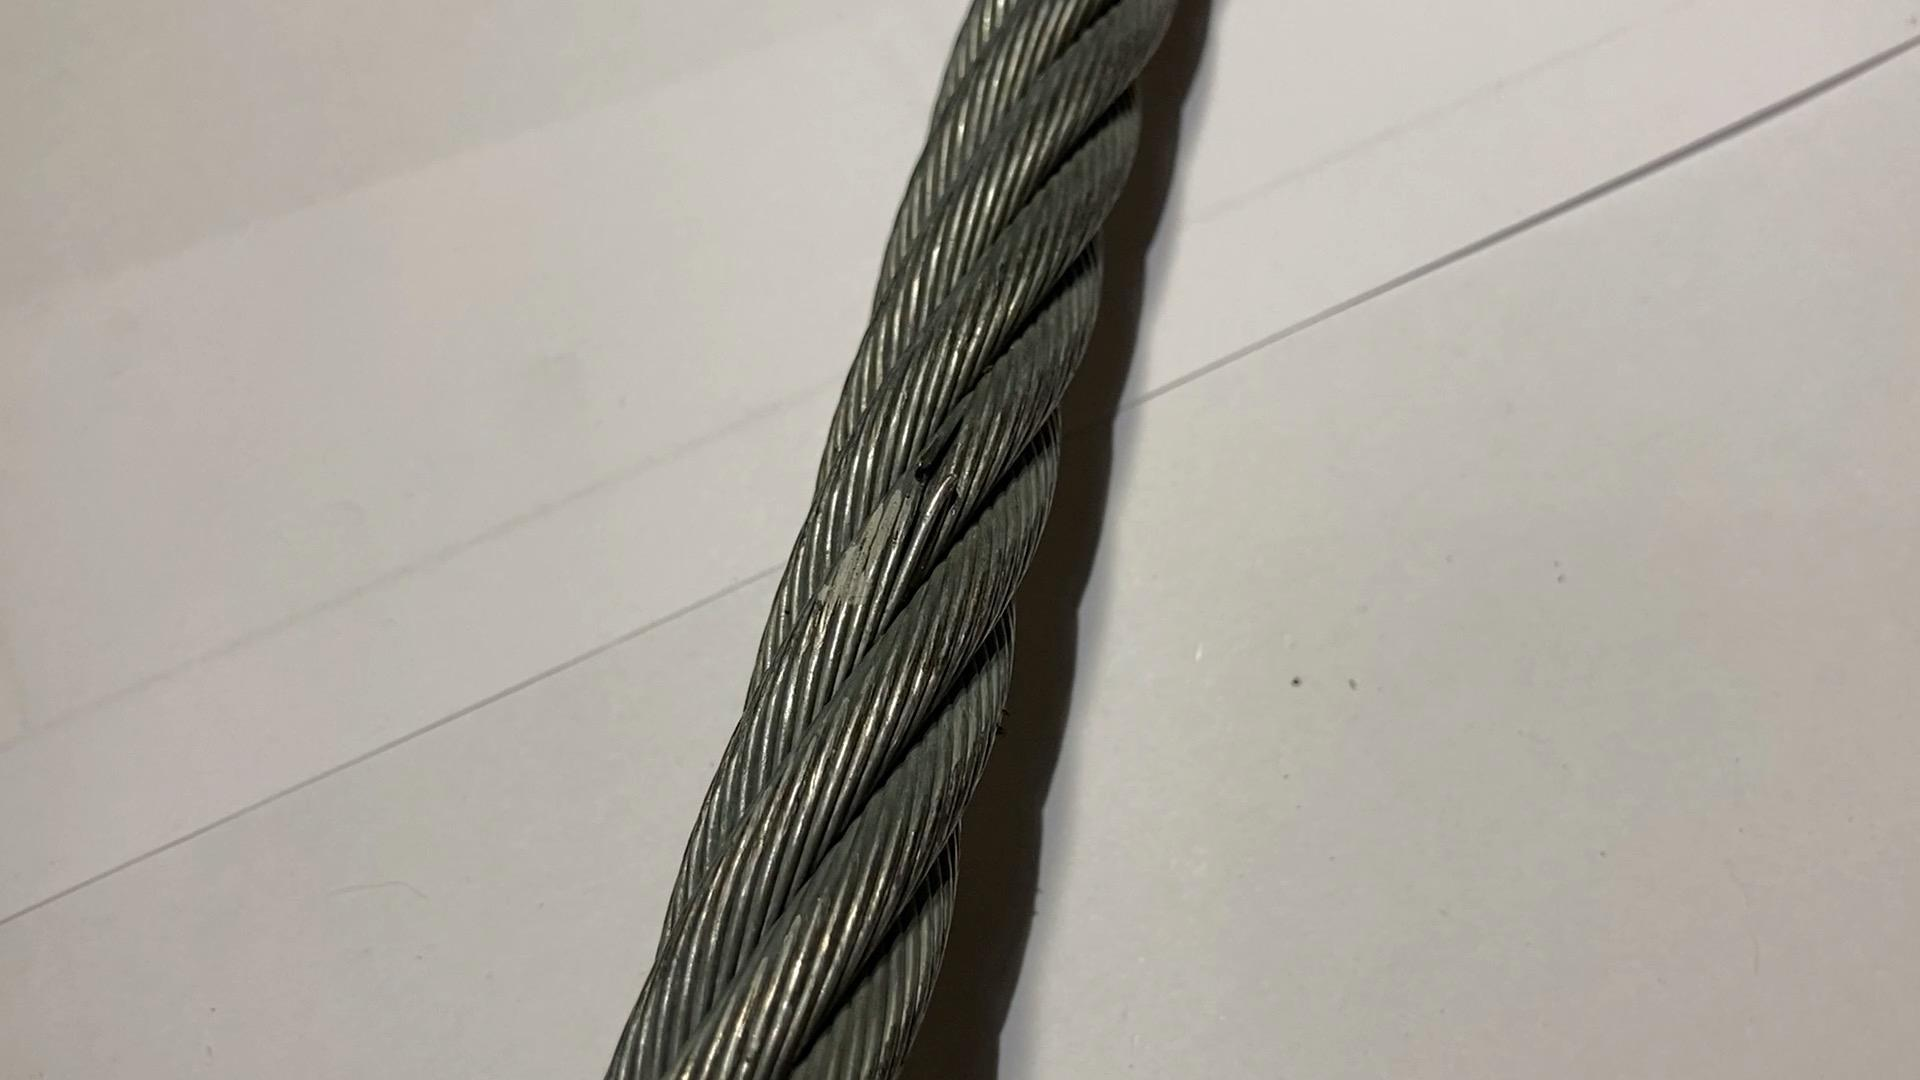break: (891, 450, 971, 541)
